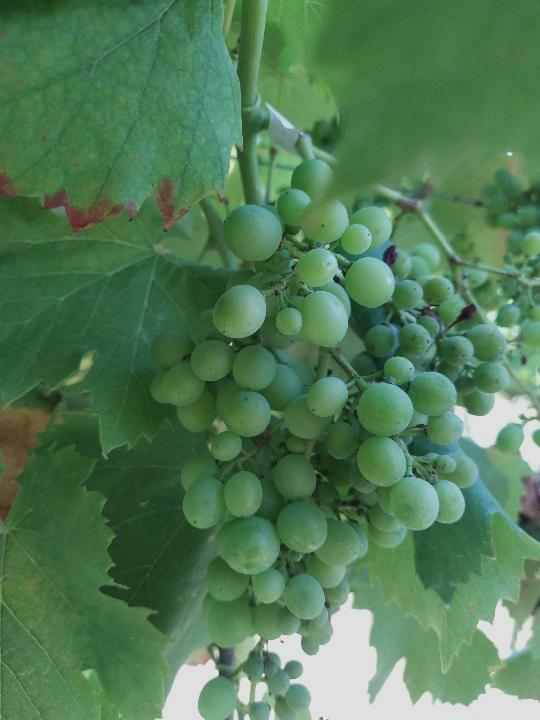grape: (149, 157, 513, 661)
